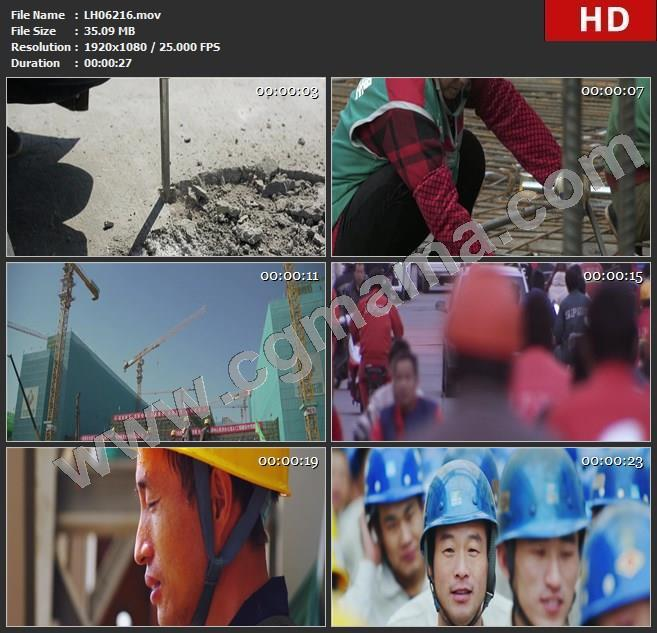helmet: (444, 258, 530, 367), (137, 436, 310, 488), (582, 498, 657, 617), (496, 448, 594, 539), (424, 466, 502, 533), (364, 443, 427, 513), (590, 449, 656, 499)
